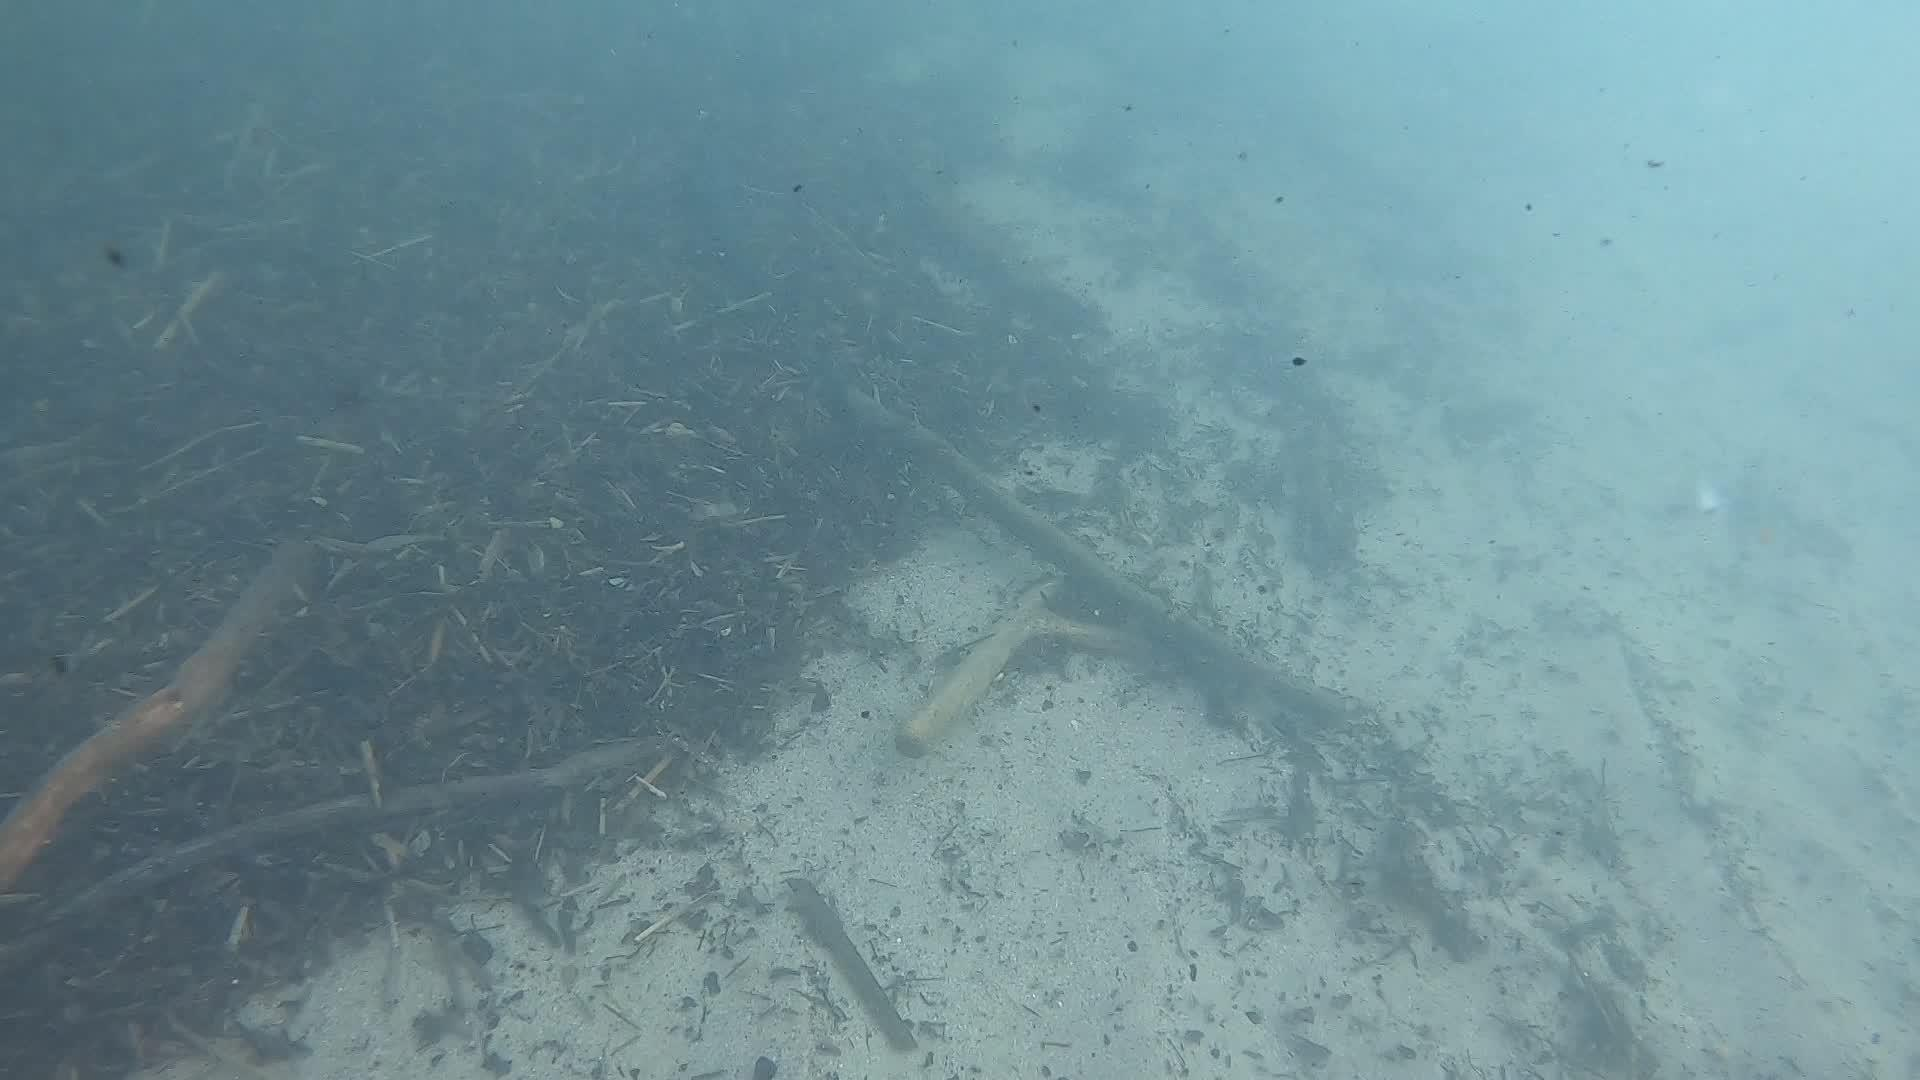wood: (836, 386, 1348, 757)
